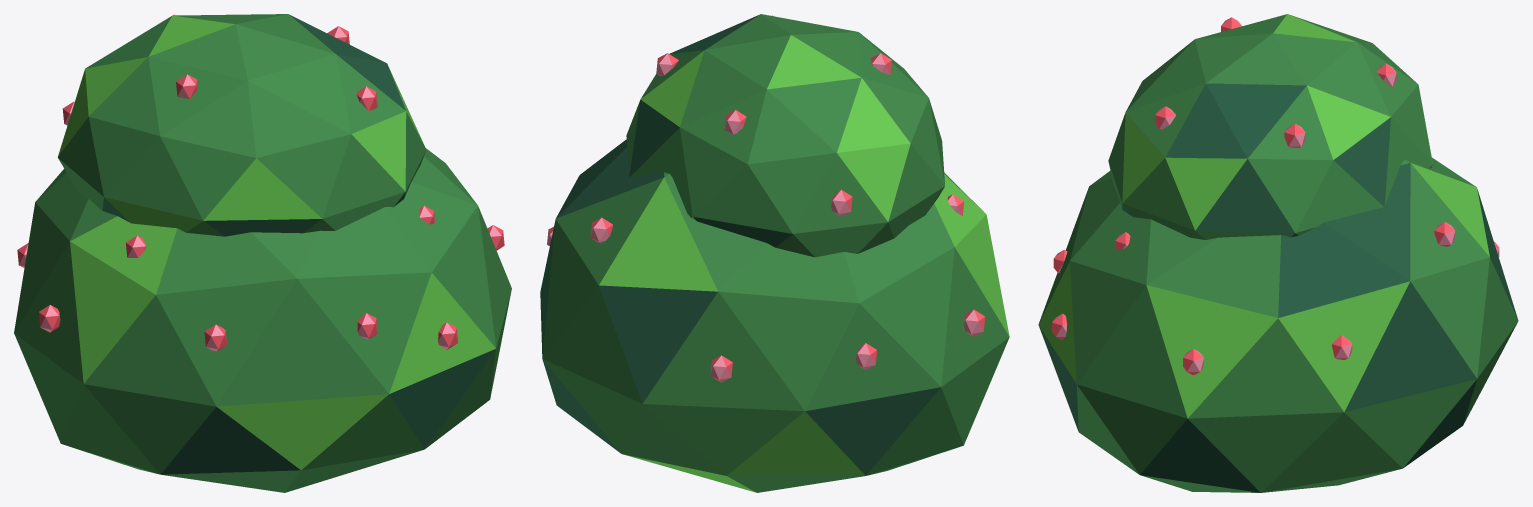
Rendered from Bush 02.fbx.
3 views of the same model, side by side, from view 1: azimuth 30°, elevation 25°; view 2: azimuth 150°, elevation 25°; view 3: azimuth 270°, elevation 25° (orthographic). The views are drawn at different scales.
Parts seen in each view (by area): view 1: Bush 02, Bush 02 Fruits; view 2: Bush 02, Bush 02 Fruits; view 3: Bush 02, Bush 02 Fruits.
Boxes of the visible parts, left/top/right/bottom form: Bush 02: left=14, top=14, right=511, bottom=492; Bush 02 Fruits: left=17, top=14, right=504, bottom=351; Bush 02: left=540, top=14, right=1009, bottom=492; Bush 02 Fruits: left=547, top=15, right=984, bottom=382; Bush 02: left=1038, top=14, right=1518, bottom=492; Bush 02 Fruits: left=1052, top=17, right=1499, bottom=374.
Bounding box in the file's own units: 204 × 192 × 207.
